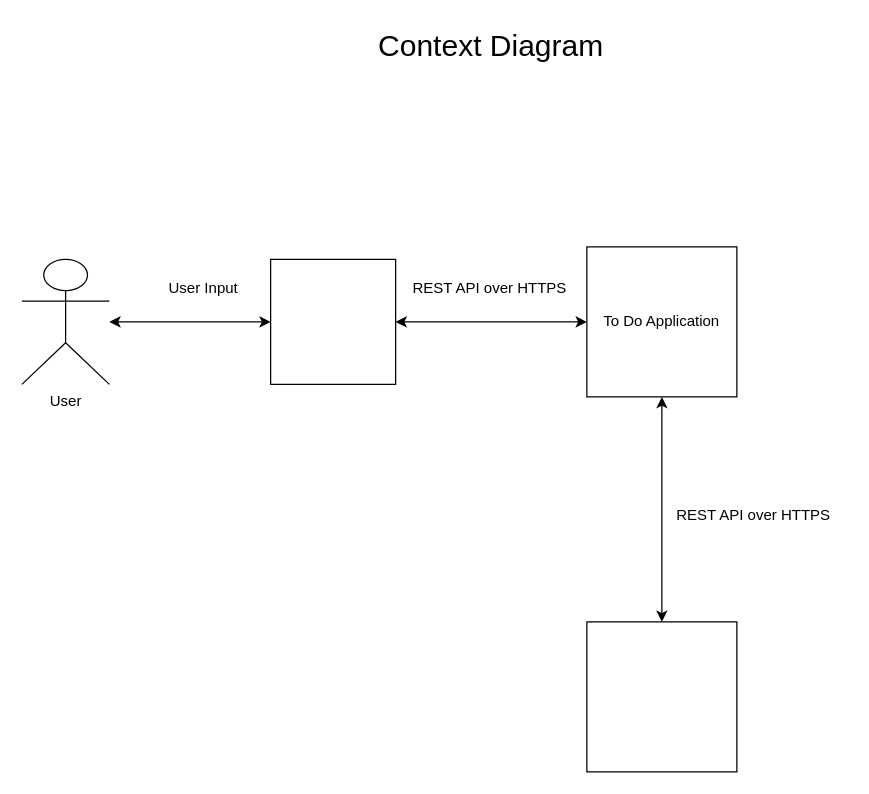
The diagram is 869 pixels wide and 794 high, and some of its shapes have lost their labels. The centre of each missing label's shape, as x and y in pixels:
"Trello" belongs at (661,696).
"Web Browser" belongs at (332,321).
